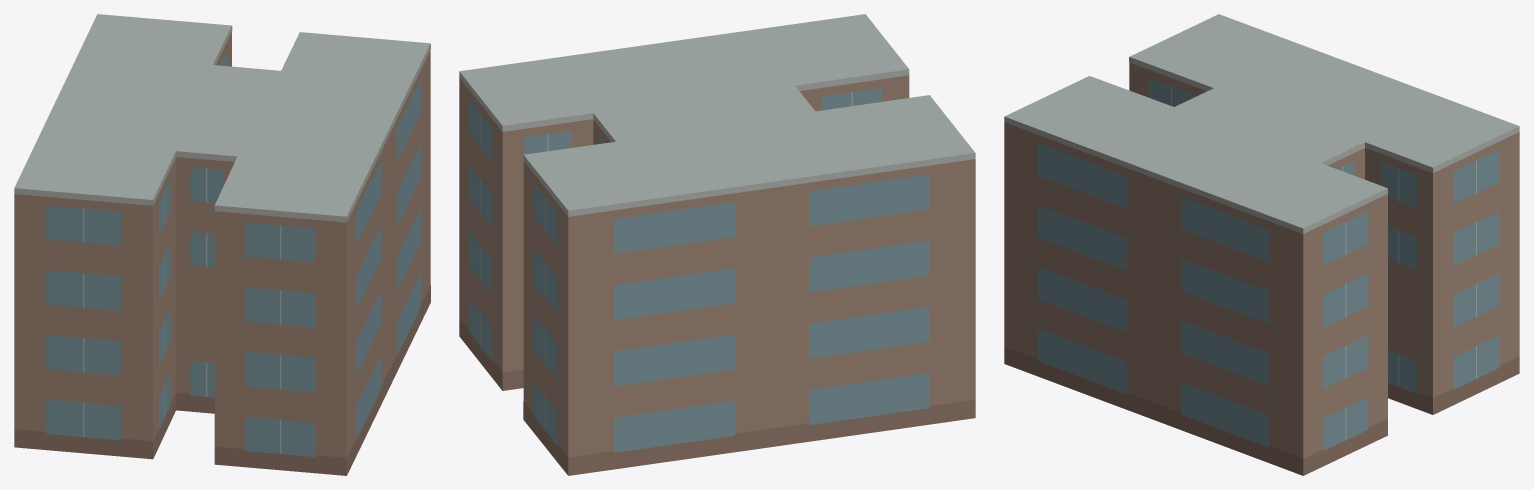
The model's file is survey-upis-32487566.glb.
3 renders of one model, left to right at view 1: azimuth 30°, elevation 25°; view 2: azimuth 150°, elevation 25°; view 3: azimuth 270°, elevation 25°, orthographic. The views are drawn at different scales.
Parts seen in each view (by area): view 1: survey-upis-32487566.tmp; view 2: survey-upis-32487566.tmp; view 3: survey-upis-32487566.tmp.
Boxes of the visible parts, bbox=[...] form: survey-upis-32487566.tmp: bbox=[14, 14, 430, 475]; survey-upis-32487566.tmp: bbox=[459, 14, 975, 475]; survey-upis-32487566.tmp: bbox=[1004, 14, 1519, 475].
Size of the model in its own units: 20.1 by 10.8 by 20.4.
